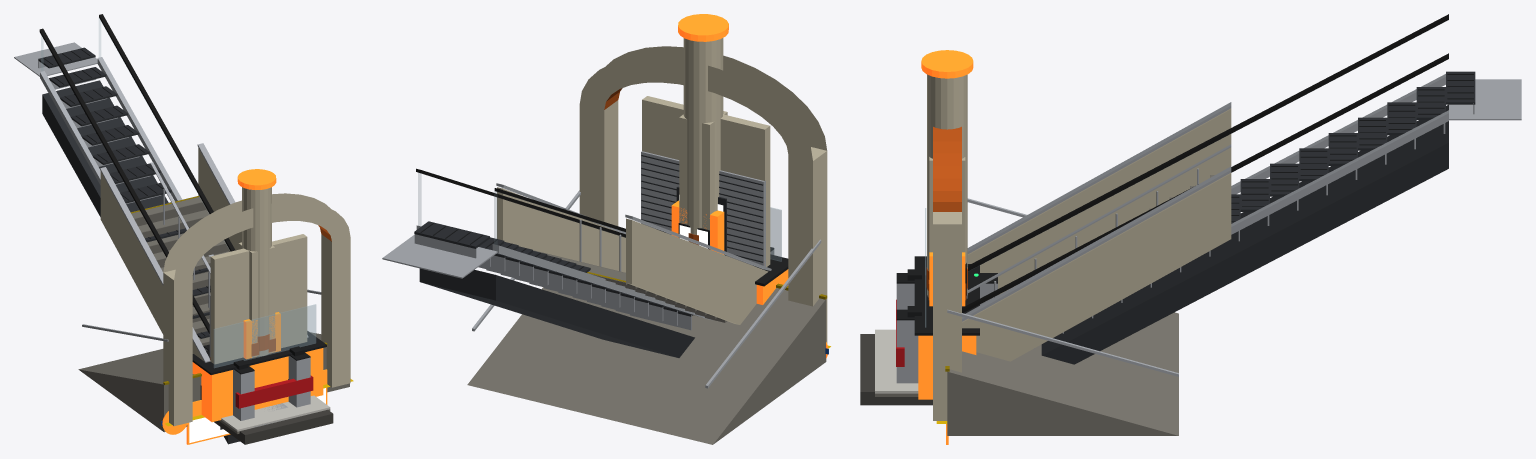
The model's file is station_kit.glb.
The picture shows the model from 3 angles, left to right: view 1: azimuth 30°, elevation 25°; view 2: azimuth 150°, elevation 25°; view 3: azimuth 270°, elevation 25°; orthographic projection. The views are drawn at different scales.
Visible parts, largest first — view 1: arch_portal, escalator_static, stairs_flight, ticket_counter, concourse_wall_2m, platform_end_ramp, pillar_round, buffer_stop, fare_gate, pillar_square, concourse_ceiling_2m, sign_name_hanging (+10 smaller); view 2: platform_end_ramp, arch_portal, stairs_flight, escalator_static, pillar_round, shutter_2m, concourse_wall_2m, pillar_square, esc_step_17, ticket_counter, ticket_machine, esc_step_12; view 3: stairs_flight, escalator_static, platform_end_ramp, arch_portal, pillar_round, ticket_counter, fare_gate, buffer_stop, concourse_ceiling_2m, esc_step_17, esc_step_12, esc_step_15 (+6 smaller).
Part boxes in pixels (x1,y1,x2,y2): arch_portal: (163,193,350,426); escalator_static: (14,14,302,444); stairs_flight: (100,143,308,362); ticket_counter: (192,304,326,422); concourse_wall_2m: (210,234,307,364); platform_end_ramp: (78,289,349,432); pillar_round: (237,169,276,356); buffer_stop: (214,375,333,444); fare_gate: (203,344,310,420); pillar_square: (238,242,275,357); concourse_ceiling_2m: (221,395,330,431); sign_name_hanging: (186,385,327,444); platform_end_ramp: (467,190,827,444); arch_portal: (579,46,827,343); stairs_flight: (496,183,771,324); escalator_static: (382,168,712,357); pillar_round: (678,14,728,245); shutter_2m: (641,151,765,269); concourse_wall_2m: (642,96,770,266); pillar_square: (679,111,727,249); esc_step_17: (414,221,489,258); ticket_counter: (755,207,788,304); ticket_machine: (671,200,724,254); esc_step_12: (486,255,561,284); stairs_flight: (962,102,1231,361); escalator_static: (962,14,1521,364); platform_end_ramp: (945,198,1178,435); arch_portal: (933,126,961,420); pillar_round: (921,50,973,297); ticket_counter: (914,208,979,399); fare_gate: (896,269,997,383); buffer_stop: (860,299,932,405); concourse_ceiling_2m: (875,329,918,393); esc_step_17: (1446,71,1475,114); esc_step_12: (1299,148,1328,195); esc_step_15: (1387,102,1416,149).
Bounding box in the file's own units: 4.05 × 5.75 × 9.13.
Materials: 27 (9 with a texture image).
